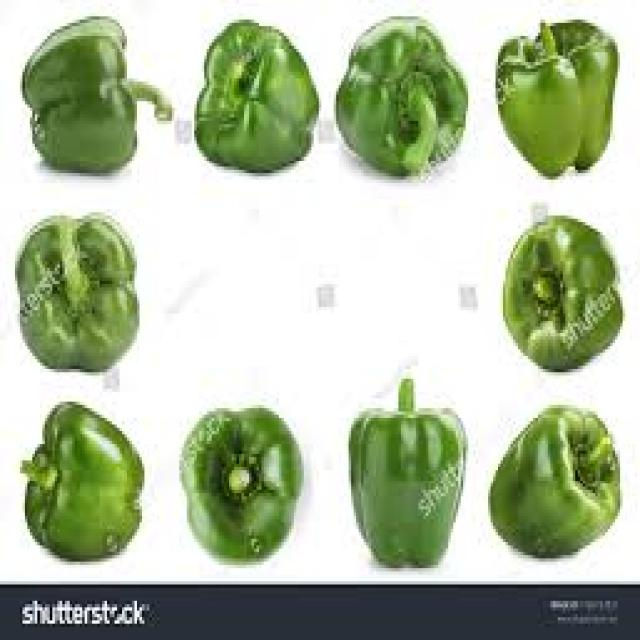bell_pepper: (335, 367, 479, 577), (494, 202, 635, 398), (165, 391, 313, 574), (16, 18, 176, 187), (4, 209, 155, 384), (337, 17, 482, 192), (10, 398, 155, 571), (489, 397, 632, 571), (188, 18, 327, 191), (491, 16, 631, 184)
